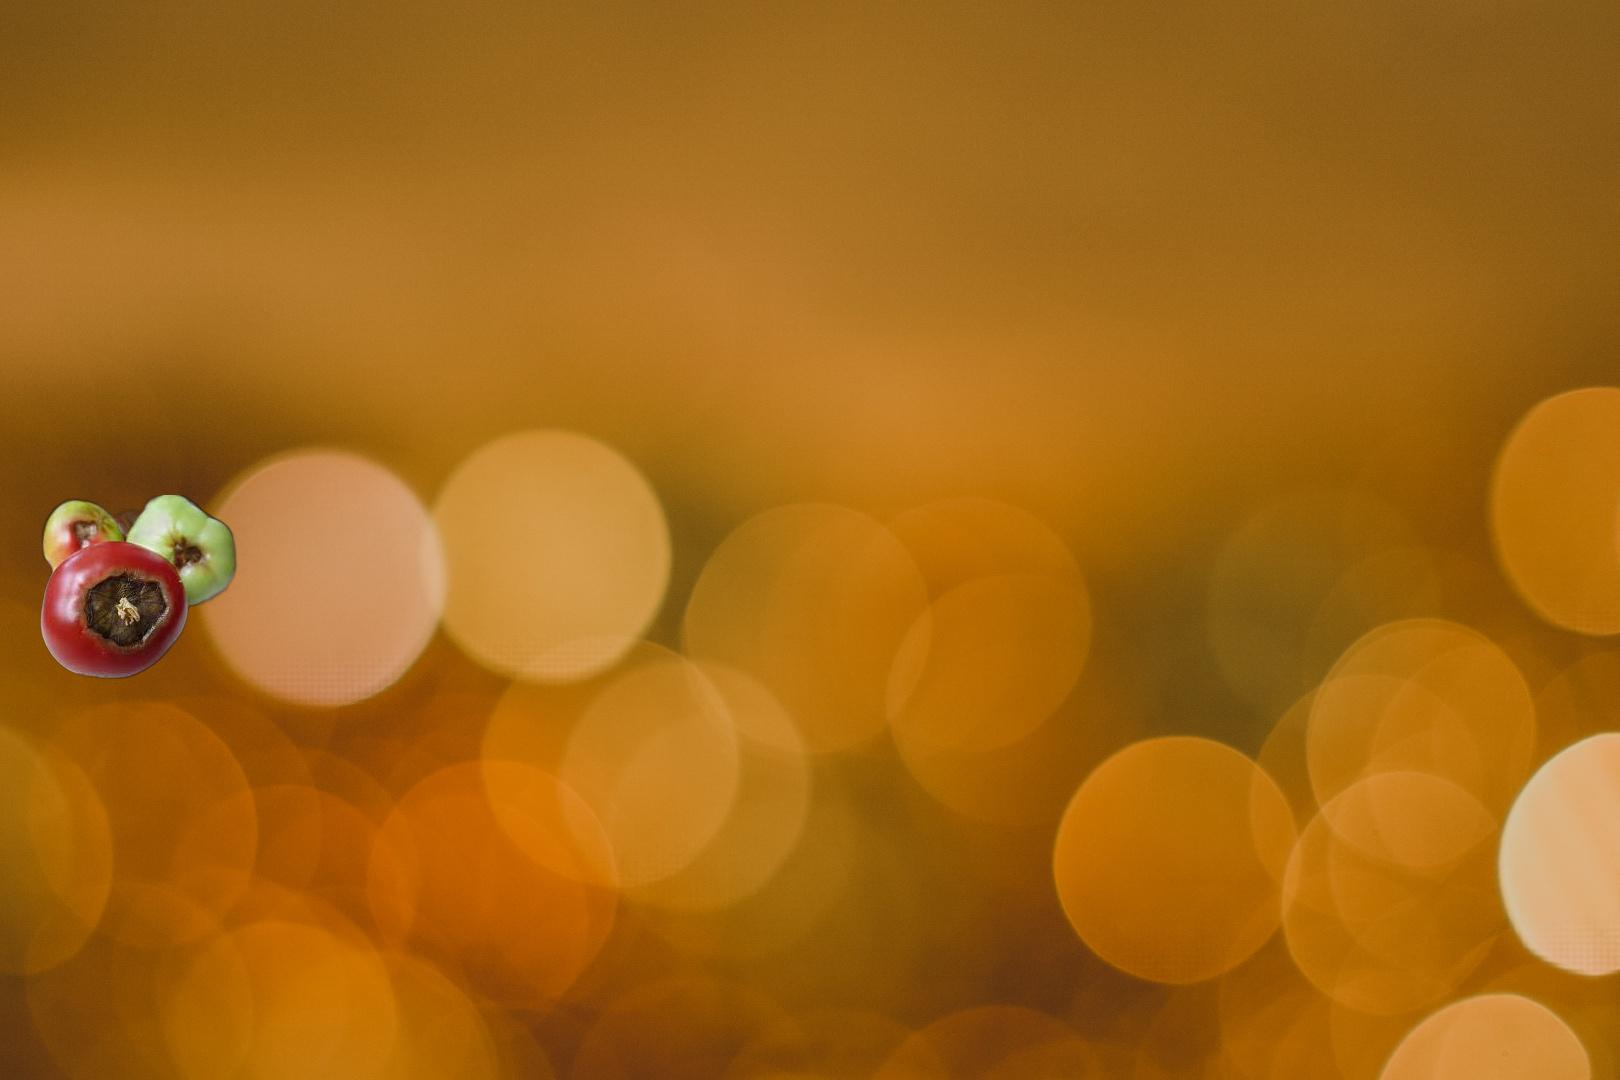biological: (37, 495, 256, 682)
